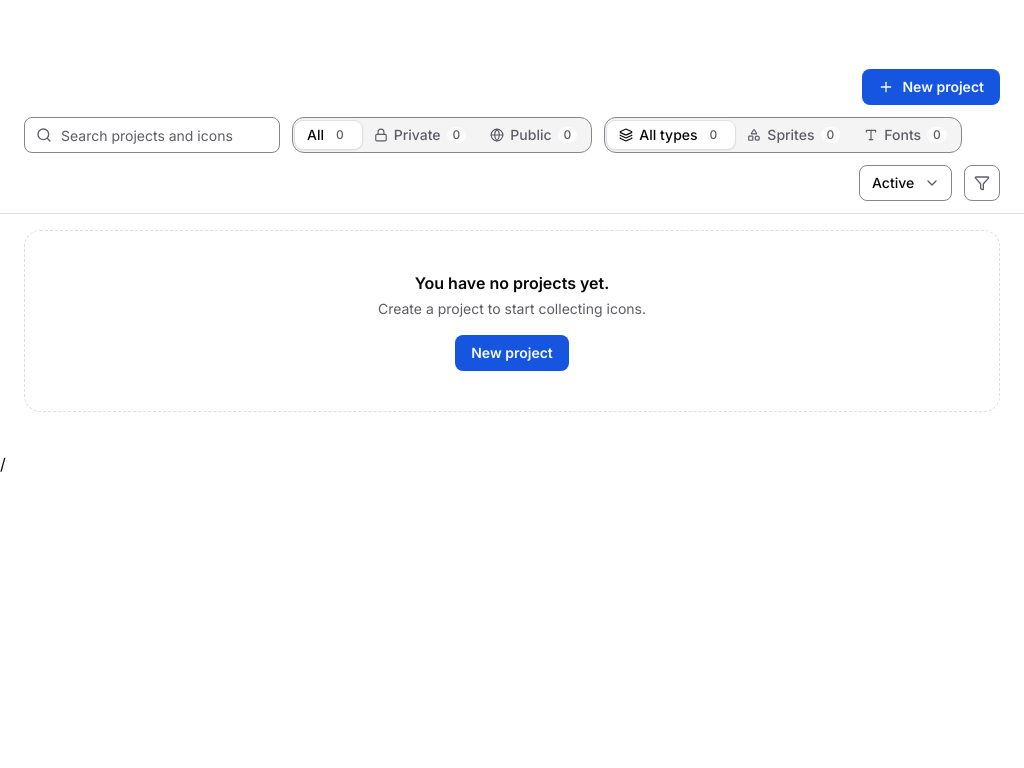
listing › shows an empty state that offers to create the first project
This screenshot has width=1024, height=768.
Expected: the text "You have no projects yet." is shown, [415,273,609,293]
Click the button "New project" below "You have no projects yet." at (512, 353), box [455,335,569,371]
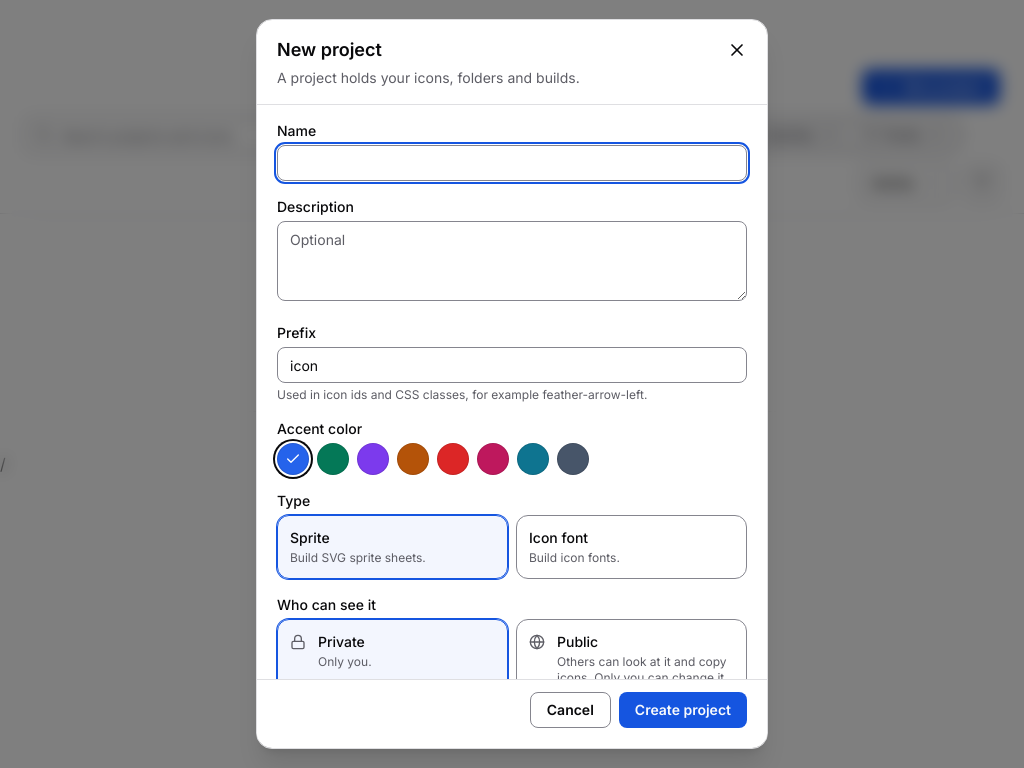
Now the dialog "New project" is shown, box [256,19,768,749]
